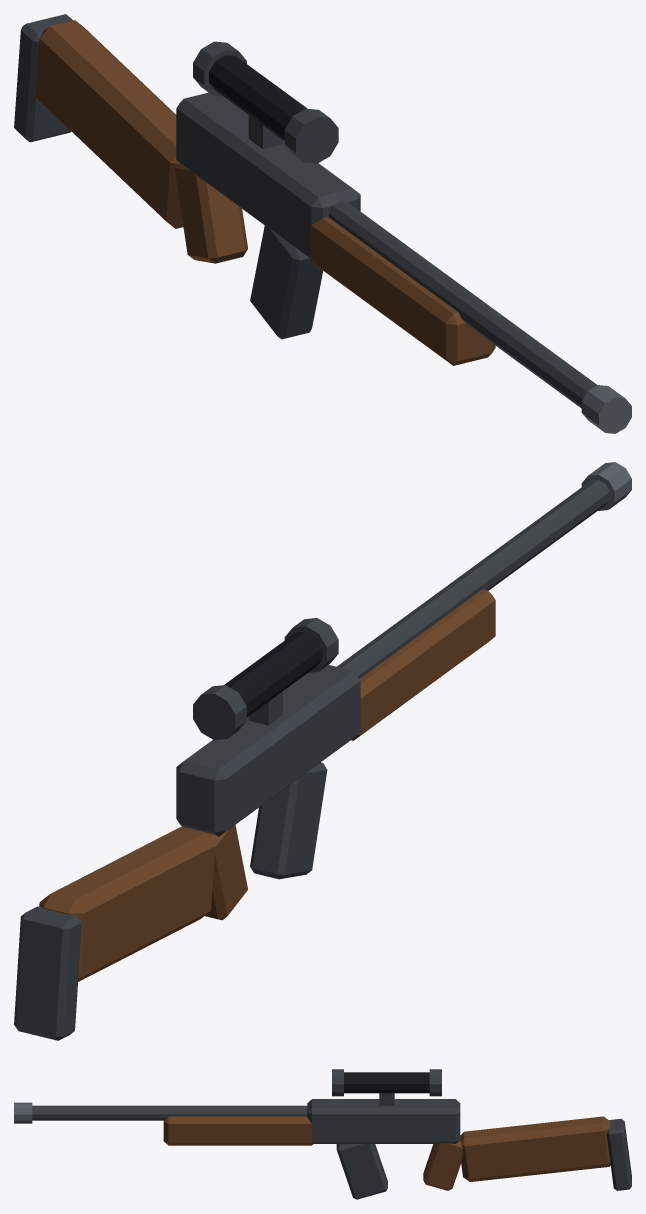
File: fusil.glb
3 renders of one model, top to bottom at view 1: azimuth 30°, elevation 25°; view 2: azimuth 150°, elevation 25°; view 3: azimuth 270°, elevation 25°, orthographic. The views are drawn at different scales.
Visible parts, largest first — view 1: fusil_arme.002, fusil_crosse.002, fusil_noir.002, fusil_arme_claire.002; view 2: fusil_arme.002, fusil_crosse.002, fusil_noir.002, fusil_arme_claire.002; view 3: fusil_arme.002, fusil_crosse.002, fusil_noir.002, fusil_arme_claire.002.
Boxes of the visible parts, <box> form: fusil_arme.002: <box>14,14,597,408</box>; fusil_crosse.002: <box>35,20,495,365</box>; fusil_noir.002: <box>209,55,306,140</box>; fusil_arme_claire.002: <box>581,385,631,433</box>; fusil_arme.002: <box>14,480,609,1040</box>; fusil_crosse.002: <box>39,589,495,981</box>; fusil_noir.002: <box>224,631,322,716</box>; fusil_arme_claire.002: <box>581,462,631,510</box>; fusil_arme.002: <box>32,1069,631,1199</box>; fusil_crosse.002: <box>163,1116,610,1190</box>; fusil_noir.002: <box>344,1072,429,1093</box>; fusil_arme_claire.002: <box>14,1102,32,1123</box>.
Size of the model in its own units: 0.05 by 0.2277 by 1.01.
